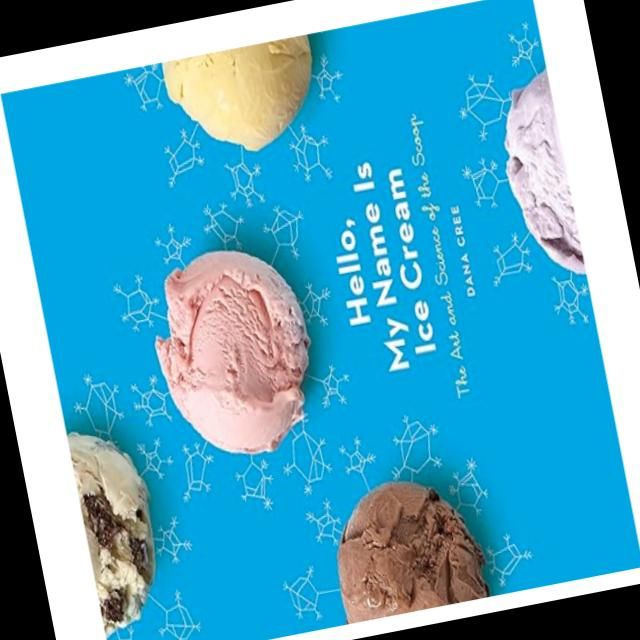titles-or-authors: (312, 144, 449, 384), (440, 192, 486, 310)
